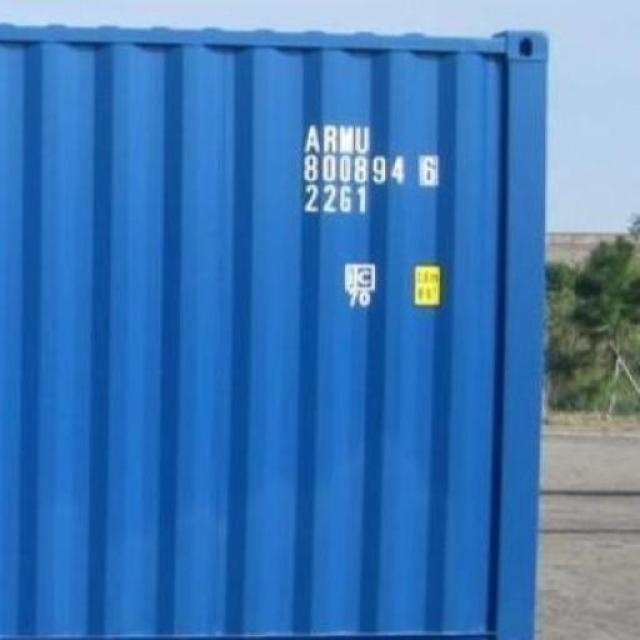ISO: (308, 186, 367, 216)
container_number: (302, 121, 444, 180)
